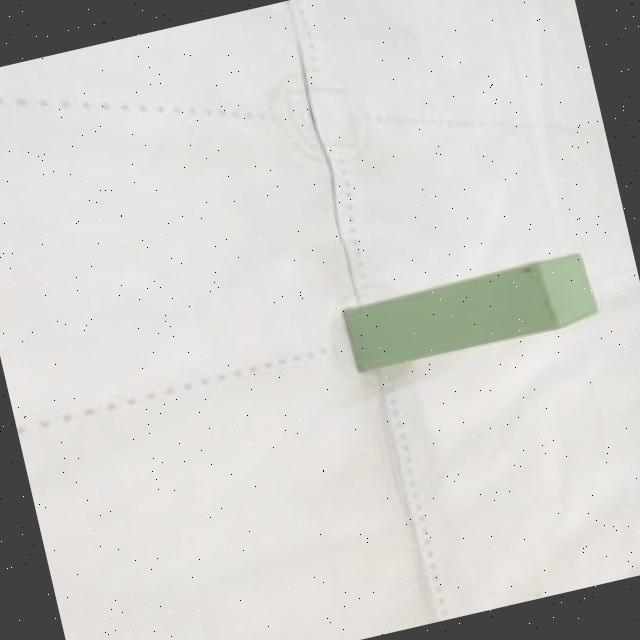greenbox: (339, 252, 598, 374)
